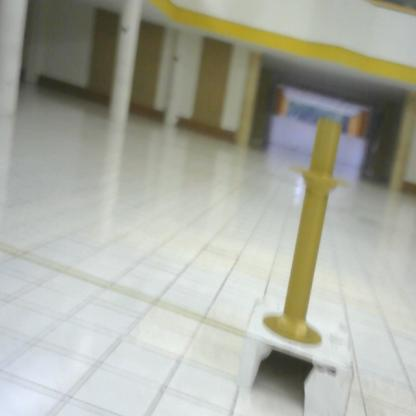pole: (261, 109, 363, 353)
